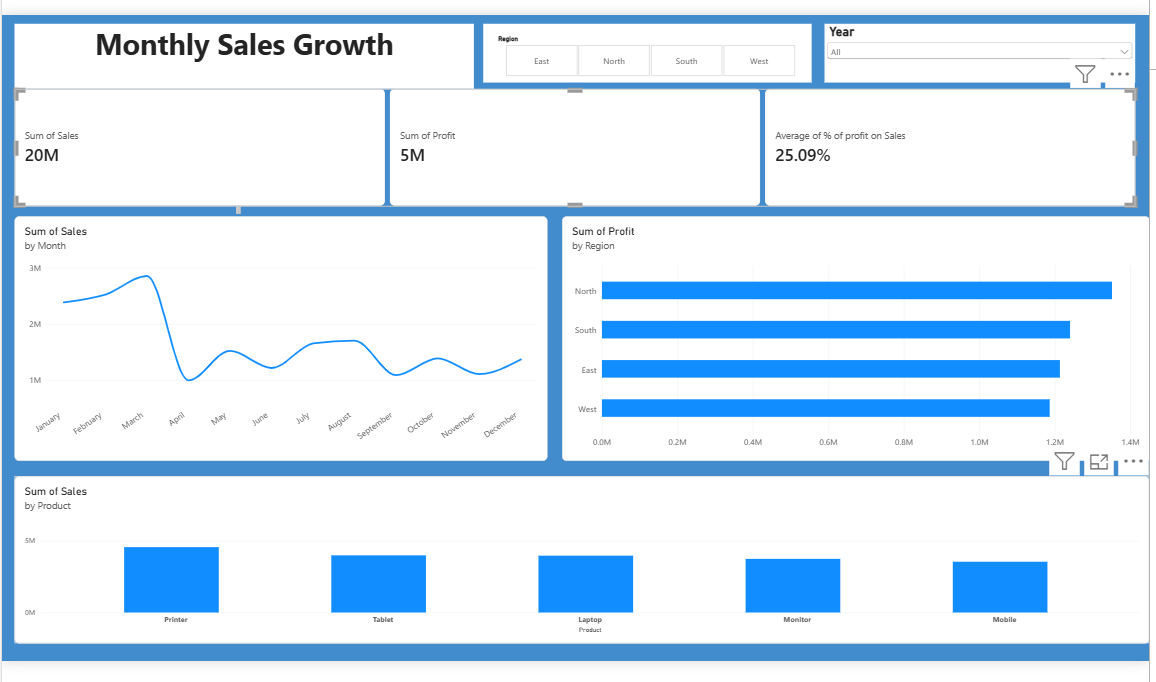

Layout of this report page (visuals, bound fields, positions):
{"tool":"powerbi","page":{"name":"Page 1","canvas":[1920,1080],"ordinal":0},"visuals":[{"type":"cardVisual","fields":{"Data":["Sum(abc sales_data.Sales)","Sum(abc sales_data.Proft)","Avg(abc sales_data.% of profit on Sales)"]},"box":[20.9,123.3,1876.5,196.4],"z":0},{"type":"barChart","fields":{"Category":["abc sales_data.Region"],"Y":["Sum(abc sales_data.Profit)"]},"box":[936.2,336.4,984.2,409.6],"z":2},{"type":"columnChart","fields":{"Category":["abc sales_data.Product"],"Y":["Sum(abc sales_data.Sales)"]},"box":[20.9,771.1,1899.5,280],"z":3},{"type":"lineChart","fields":{"Category":["abc sales_data.Order_Date.Variation.Date Hierarchy.Month"],"Y":["Sum(abc sales_data.Sales)"]},"box":[20.9,336.4,892.3,409.6],"z":4},{"type":"slicer","fields":{"Values":["abc sales_data.Order_Date.Variation.Date Hierarchy.Year"]},"box":[1377.1,14.6,520.3,98.2],"z":5},{"type":"slicer","fields":{"Values":["abc sales_data.Region"]},"box":[804.5,14.6,549.6,98.2],"z":6},{"type":"textbox","box":[100.3,265.4,298.8,133.7],"z":7},{"type":"textbox","box":[100,100,300,300],"z":8},{"type":"textbox","box":[100,100,300,300],"z":11},{"type":"textbox","box":[100,100,300,300],"z":12},{"type":"textbox","box":[100.3,319.7,298.8,12.5],"z":13},{"type":"textbox","box":[100,100,300,300],"z":14},{"type":"textbox","box":[20.9,14.6,769,108.7],"z":15}]}

Visuals, with their boxes in screenshot pixels (x1, y1, x2, y2):
cardVisual - Sum(abc sales_data.Sales) x Sum(abc sales_data.Proft): crop(12, 88, 1127, 205)
barChart - abc sales_data.Region x Sum(abc sales_data.Profit): crop(556, 215, 1140, 458)
columnChart - abc sales_data.Product x Sum(abc sales_data.Sales): crop(12, 473, 1140, 639)
lineChart - abc sales_data.Order_Date.Variation.Date Hierarchy.Month x Sum(abc sales_data.Sales): crop(12, 215, 542, 458)
slicer - abc sales_data.Order_Date.Variation.Date Hierarchy.Year: crop(818, 24, 1127, 82)
slicer - abc sales_data.Region: crop(478, 24, 804, 82)
textbox: crop(60, 173, 237, 252)
textbox: crop(59, 74, 238, 253)
textbox: crop(59, 74, 238, 253)
textbox: crop(59, 74, 238, 253)
textbox: crop(60, 205, 237, 212)
textbox: crop(59, 74, 238, 253)
textbox: crop(12, 24, 469, 88)
